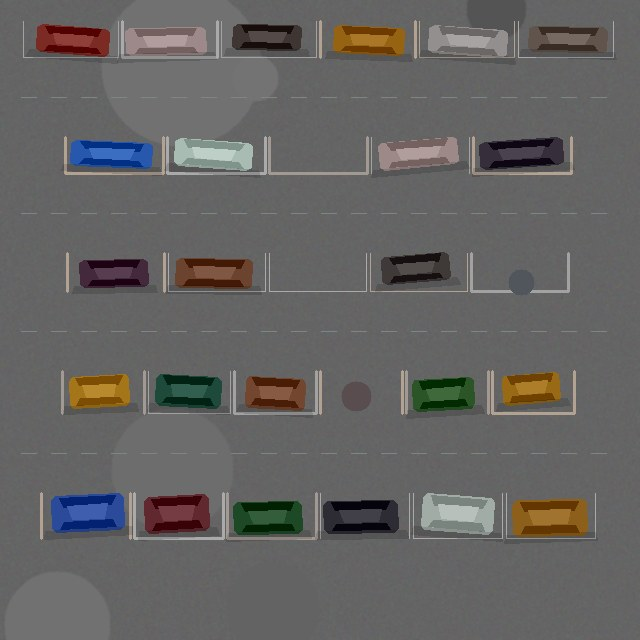space-empty: (269, 253, 366, 291), (471, 253, 568, 291), (269, 137, 367, 173), (320, 371, 402, 413)
space-occupied: (41, 493, 130, 538), (134, 493, 223, 538), (227, 493, 316, 538), (320, 493, 409, 538), (413, 493, 502, 538), (506, 493, 595, 538), (67, 253, 164, 291), (168, 253, 265, 291), (370, 253, 467, 291), (65, 137, 163, 173), (167, 137, 265, 173), (371, 137, 469, 173), (473, 137, 571, 173), (62, 371, 144, 413), (148, 371, 230, 413), (234, 371, 316, 413), (406, 371, 488, 413), (492, 371, 574, 413), (23, 21, 118, 57), (122, 21, 217, 57), (221, 21, 316, 57), (320, 21, 415, 57), (419, 21, 514, 57), (518, 21, 613, 57)
